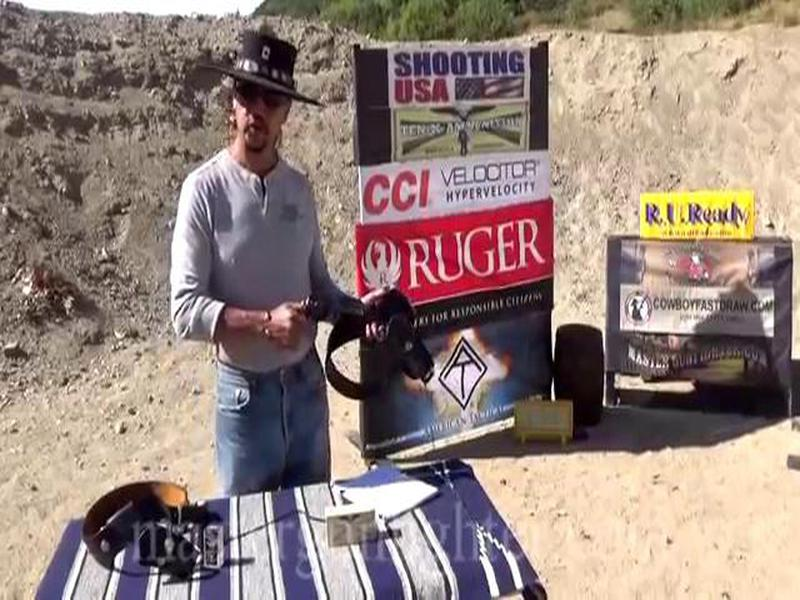Revolver: (258, 280, 378, 364)
